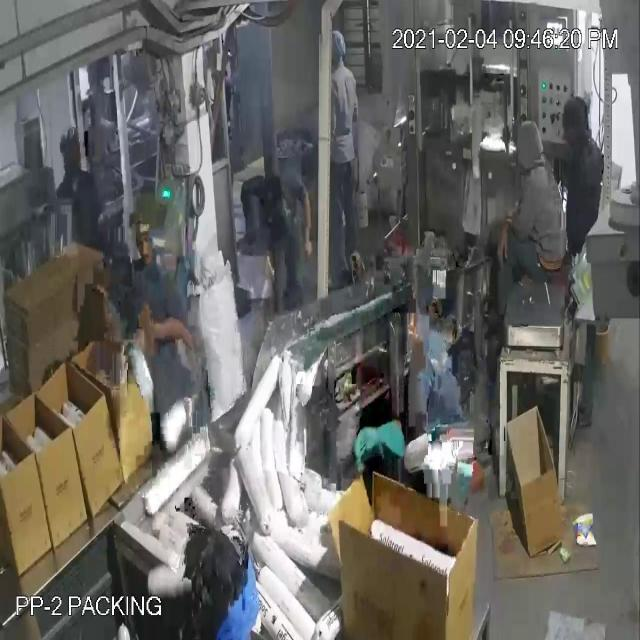No_Gloves: (58, 60, 375, 445)
